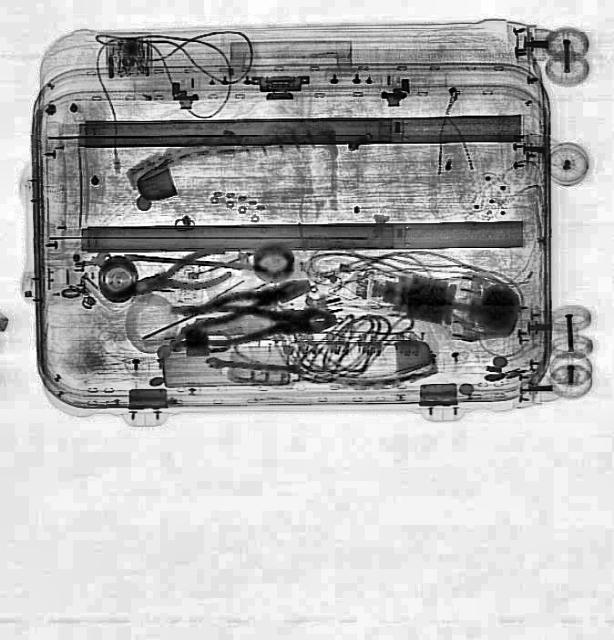Pliers: (168, 294, 336, 348), (176, 272, 314, 332), (117, 244, 233, 308)
